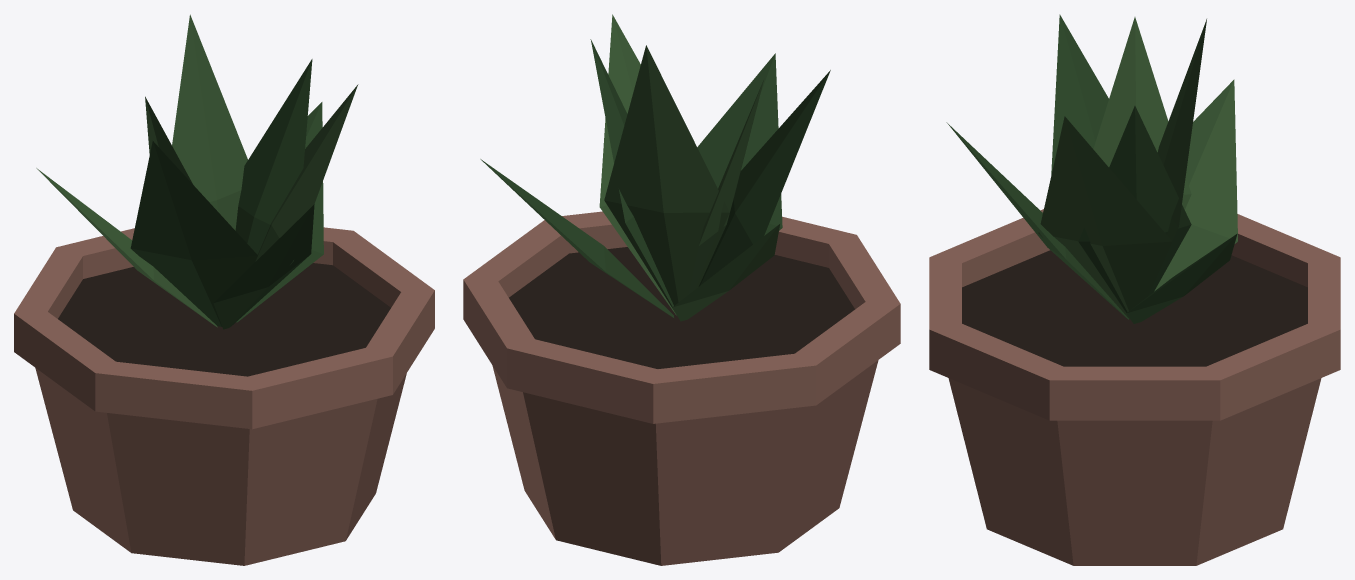
3 views of the same model, side by side, from view 1: azimuth 30°, elevation 25°; view 2: azimuth 150°, elevation 25°; view 3: azimuth 270°, elevation 25° (orthographic). The views are drawn at different scales.
Visible parts, largest first — view 1: furniture_3_plant; view 2: furniture_3_plant; view 3: furniture_3_plant.
Part boxes in pixels (x1,y1,x2,y2): furniture_3_plant: (14, 14, 434, 565); furniture_3_plant: (463, 14, 900, 565); furniture_3_plant: (929, 14, 1340, 565).
Size of the model in its own units: 0.9216 by 1.2 by 0.9216.
